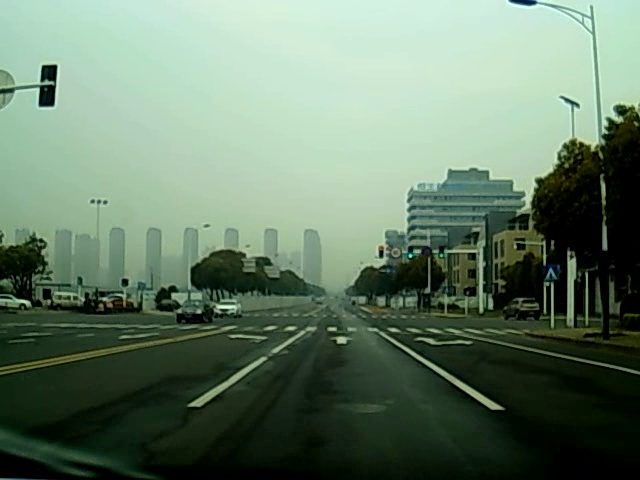Traffic_Light_go: (437, 243, 445, 261), (406, 245, 414, 262)
Traffic_Light_stop: (377, 245, 385, 262)
